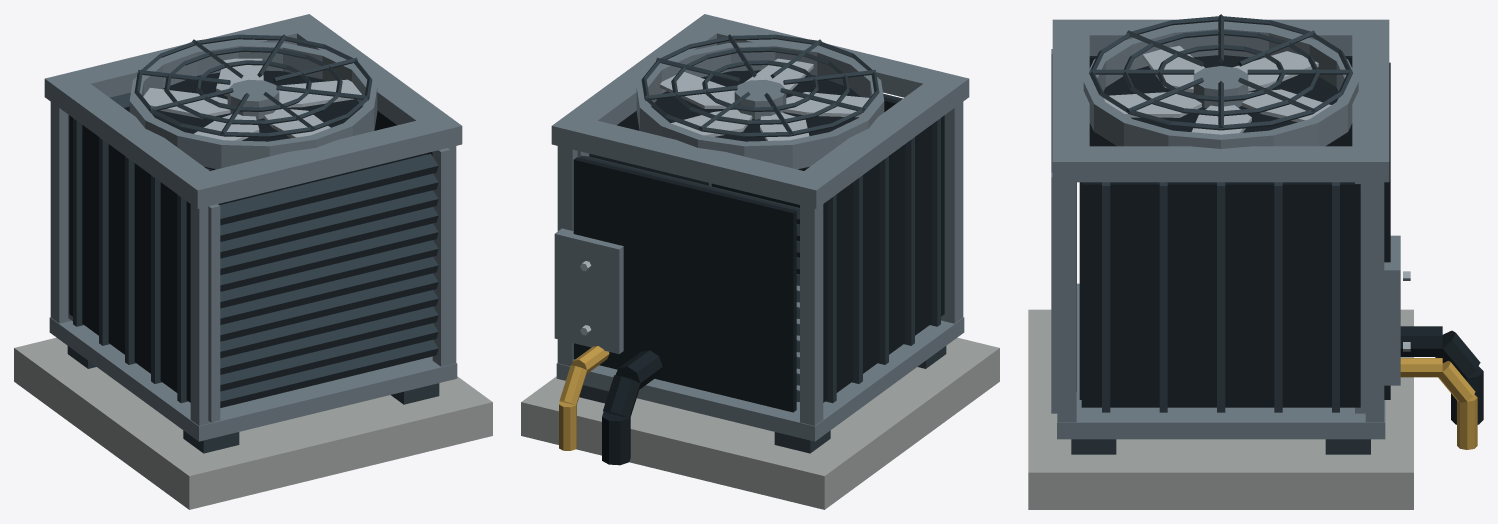
File: b05_residential_ac_condenser.glb
3 renders of one model, left to right at view 1: azimuth 30°, elevation 25°; view 2: azimuth 150°, elevation 25°; view 3: azimuth 270°, elevation 25°, orthographic. The views are drawn at different scales.
Parts seen in each view (by area): view 1: b05_residential_ac_condenser; view 2: b05_residential_ac_condenser; view 3: b05_residential_ac_condenser.
Boxes of the visible parts, x1,y1,x2,y2 form: b05_residential_ac_condenser: (14,14,492,509); b05_residential_ac_condenser: (521,14,999,509); b05_residential_ac_condenser: (1028,14,1483,509).
Size of the model in its own units: 0.94 by 0.965 by 1.11.
